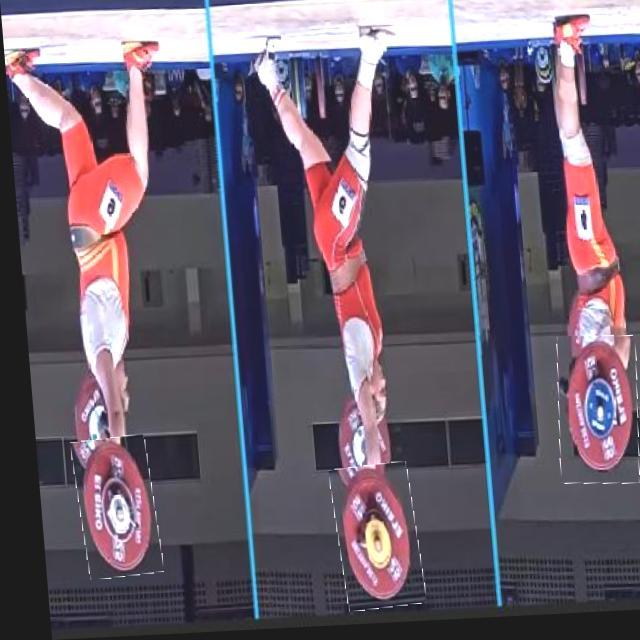barbell: (546, 341, 638, 493), (324, 467, 415, 614), (66, 438, 153, 580)
